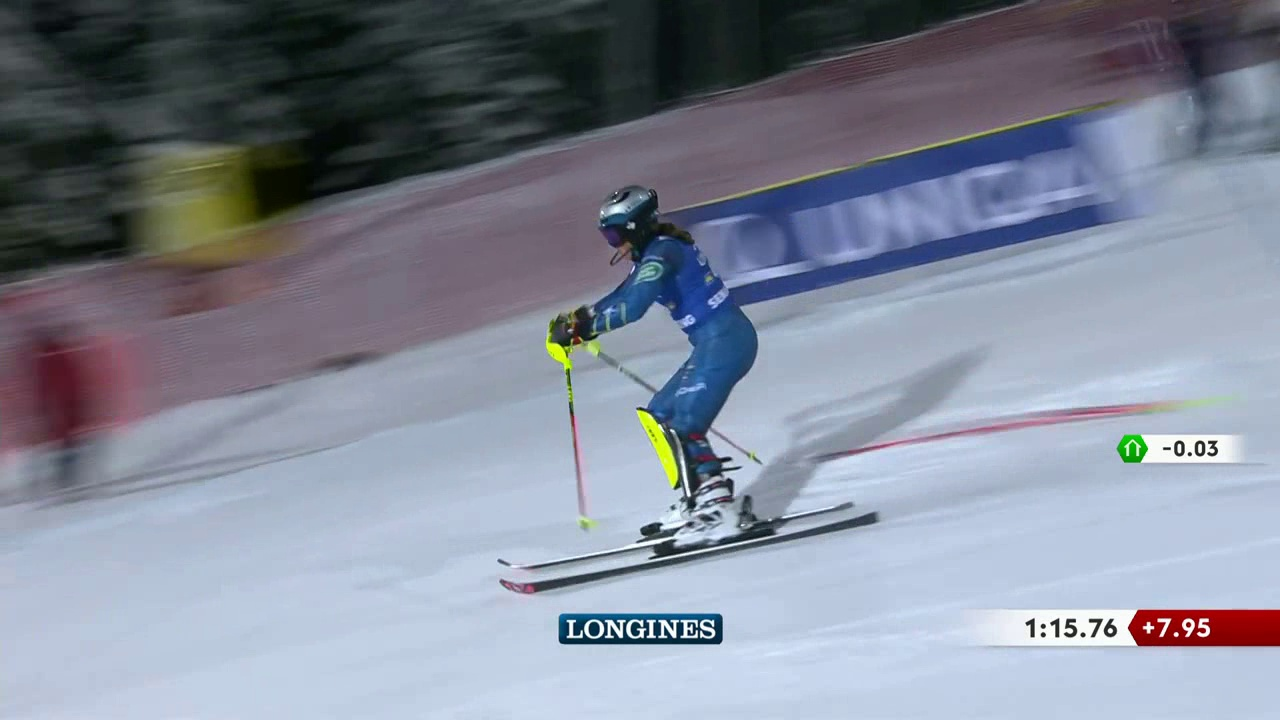longines: (555, 612, 731, 646)
